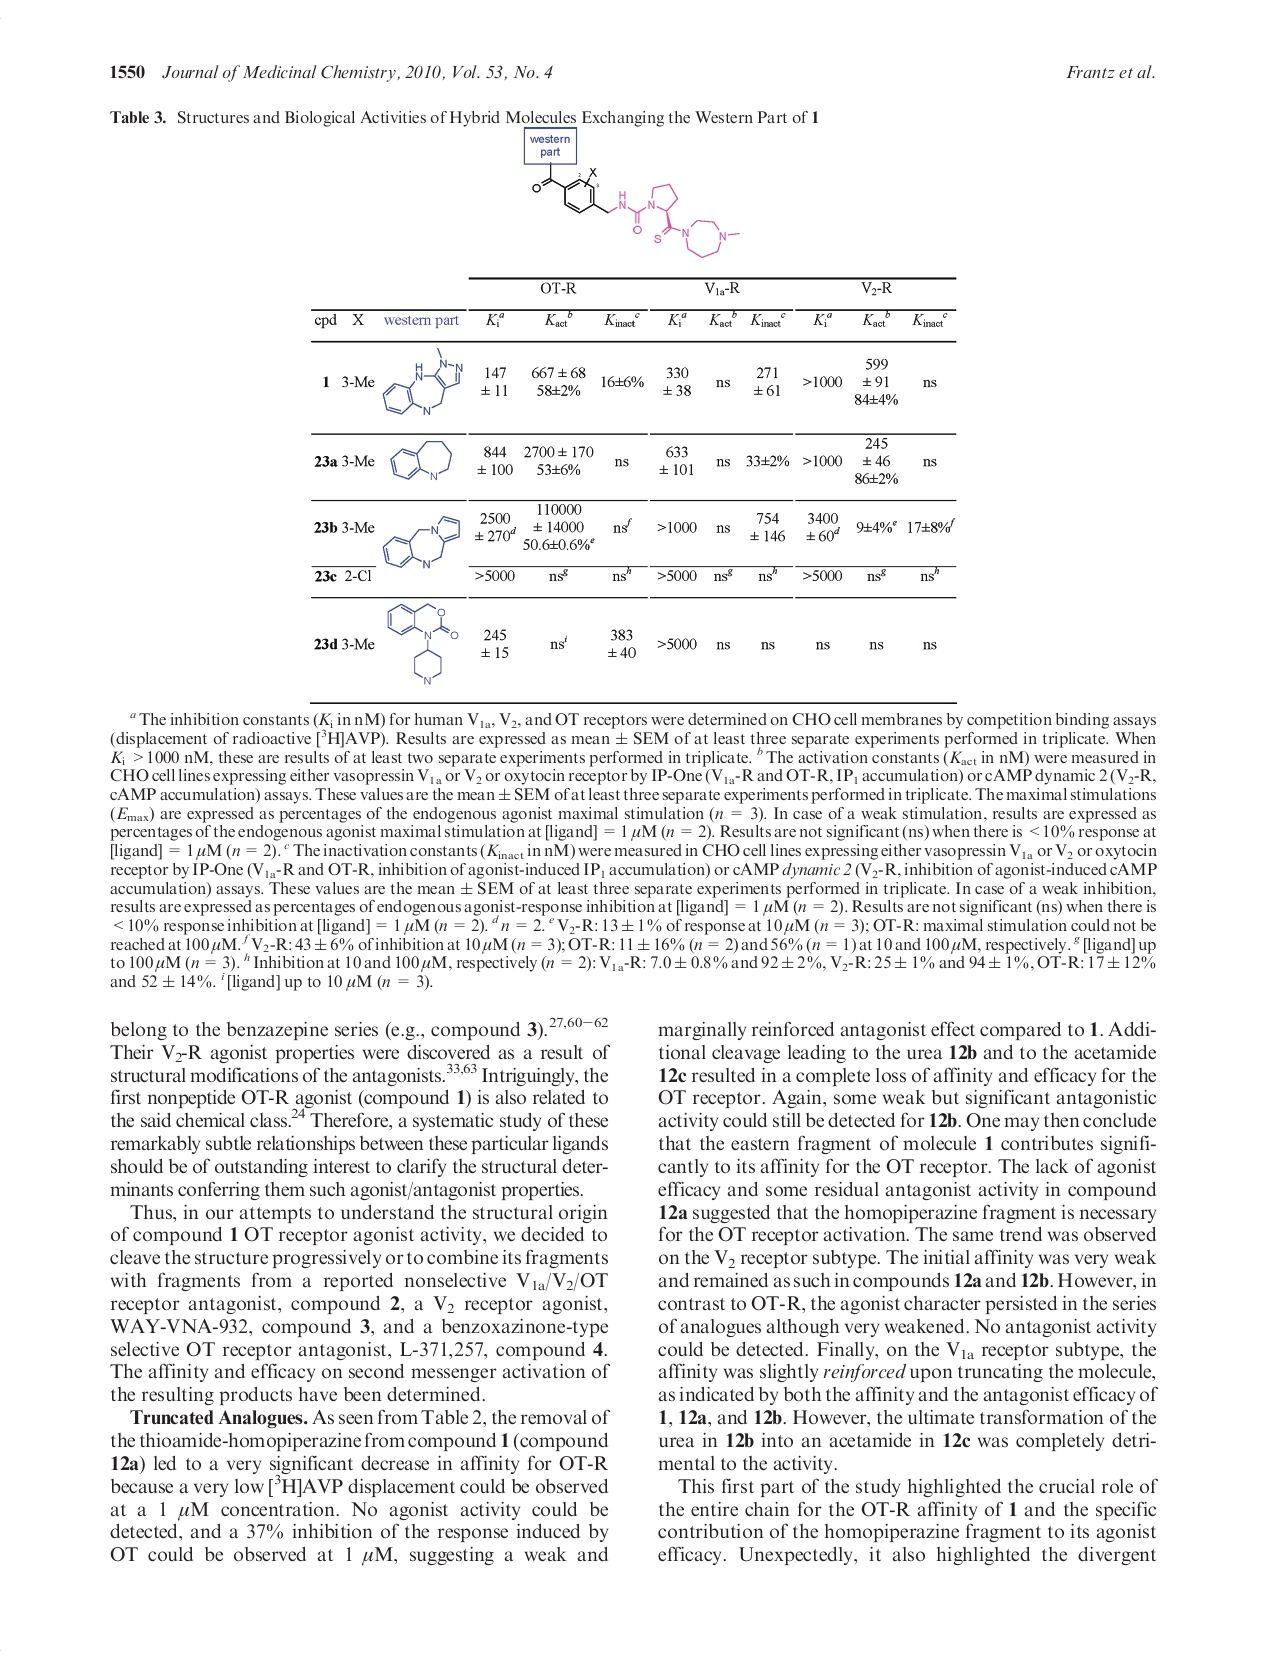exist_molecular: (531, 160, 743, 259), (386, 601, 460, 685), (382, 347, 465, 418), (380, 513, 461, 571), (388, 438, 453, 483)
